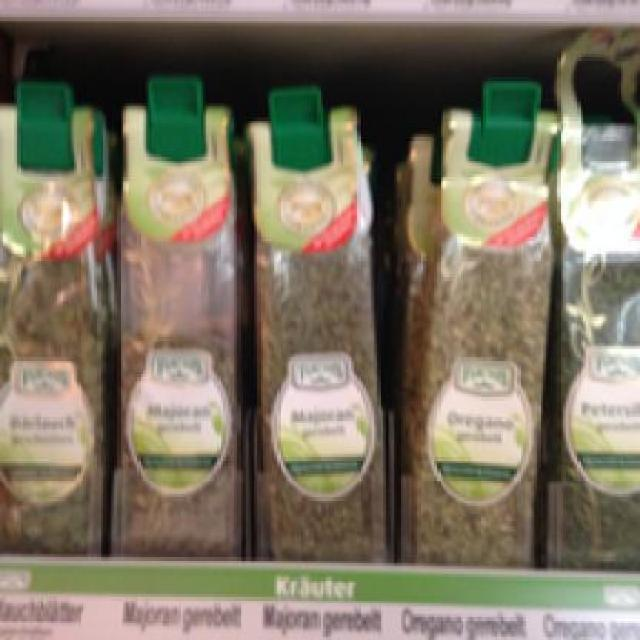Spices: (406, 106, 554, 563), (248, 100, 384, 557), (114, 100, 243, 554), (0, 103, 109, 546), (554, 106, 637, 572)
